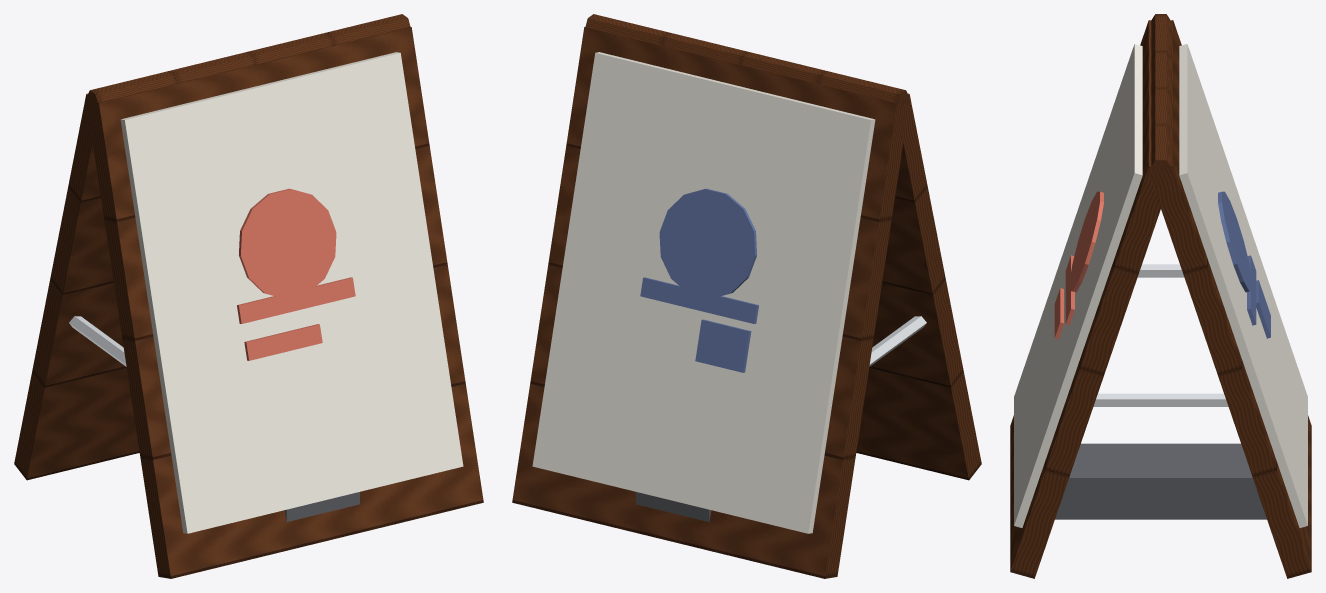
The model's file is aframe.glb.
3 renders of one model, left to right at view 1: azimuth 30°, elevation 25°; view 2: azimuth 150°, elevation 25°; view 3: azimuth 270°, elevation 25°, orthographic. The views are drawn at different scales.
Visible parts, largest first — view 1: a-frame-pavement-sign-cream, a-frame-pavement-sign-darkwood, a-frame-pavement-sign-vermilion, a-frame-pavement-sign-charcoal, a-frame-pavement-sign-steel; view 2: a-frame-pavement-sign-cream, a-frame-pavement-sign-darkwood, a-frame-pavement-sign-indigo, a-frame-pavement-sign-charcoal, a-frame-pavement-sign-steel; view 3: a-frame-pavement-sign-cream, a-frame-pavement-sign-darkwood, a-frame-pavement-sign-charcoal, a-frame-pavement-sign-indigo, a-frame-pavement-sign-vermilion, a-frame-pavement-sign-steel.
Part boxes in pixels (x1,y1,x2,y2): a-frame-pavement-sign-cream: (120,52,463,533); a-frame-pavement-sign-darkwood: (14,14,483,578); a-frame-pavement-sign-vermilion: (237,188,355,360); a-frame-pavement-sign-charcoal: (284,492,359,521); a-frame-pavement-sign-steel: (69,316,126,366); a-frame-pavement-sign-cream: (532,52,875,533); a-frame-pavement-sign-darkwood: (512,14,981,578); a-frame-pavement-sign-indigo: (640,188,758,372); a-frame-pavement-sign-charcoal: (636,492,711,521); a-frame-pavement-sign-steel: (869,316,926,366); a-frame-pavement-sign-cream: (1014,44,1307,527); a-frame-pavement-sign-darkwood: (1010,14,1311,578); a-frame-pavement-sign-charcoal: (1055,443,1266,519); a-frame-pavement-sign-indigo: (1218,191,1270,338); a-frame-pavement-sign-vermilion: (1054,191,1103,339); a-frame-pavement-sign-steel: (1093,264,1228,406).
Size of the model in its own units: 0.68 by 0.9064 by 0.5915.
Materials: 6 (1 with a texture image).
